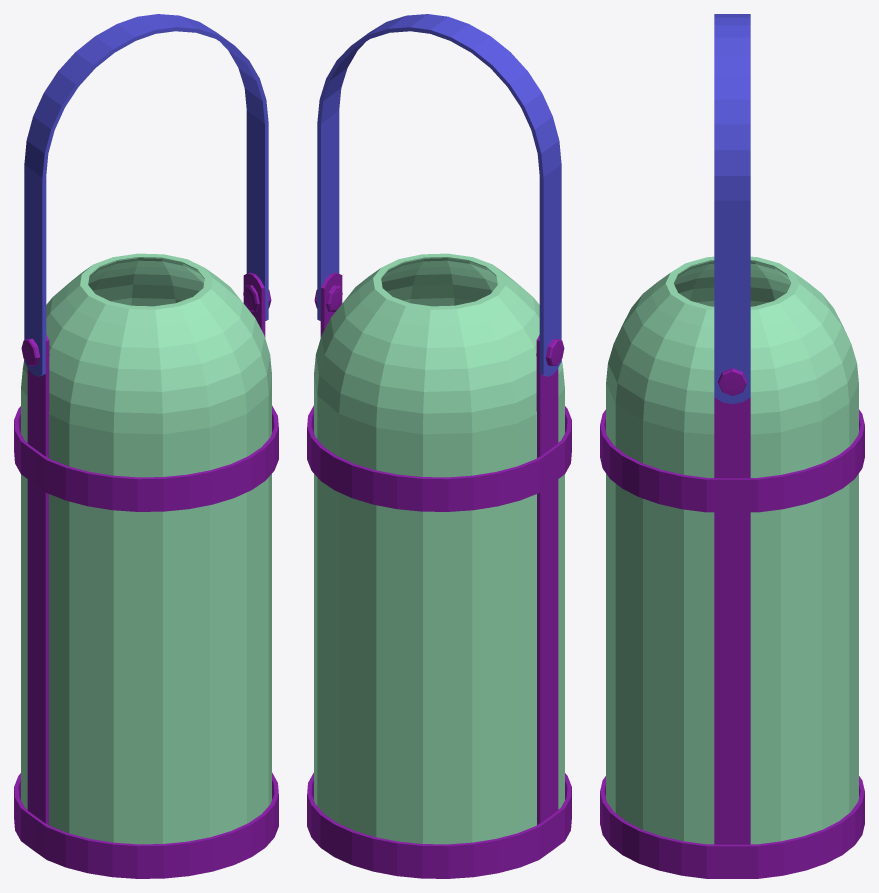
The model's file is Candle_lantern_OBJ.obj.
The picture shows the model from 3 angles, left to right: view 1: azimuth 30°, elevation 25°; view 2: azimuth 150°, elevation 25°; view 3: azimuth 270°, elevation 25°; orthographic projection.
Visible parts, largest first — view 1: bottle, holder, handle, Matting_coating; view 2: bottle, holder, handle, Matting_coating; view 3: bottle, holder, handle, Matting_coating.
Part boxes in pixels (x1,y1,x2,y2): bottle: [21, 253, 271, 844]; holder: [14, 272, 278, 878]; handle: [24, 14, 268, 376]; Matting_coating: [88, 257, 204, 306]; bottle: [314, 253, 564, 844]; holder: [307, 272, 571, 878]; handle: [317, 14, 561, 376]; Matting_coating: [381, 257, 497, 306]; bottle: [606, 256, 858, 844]; holder: [600, 368, 864, 878]; handle: [714, 14, 750, 403]; Matting_coating: [673, 260, 791, 306].
Bounding box in the file's own units: 75.59 × 244 × 73.31.
